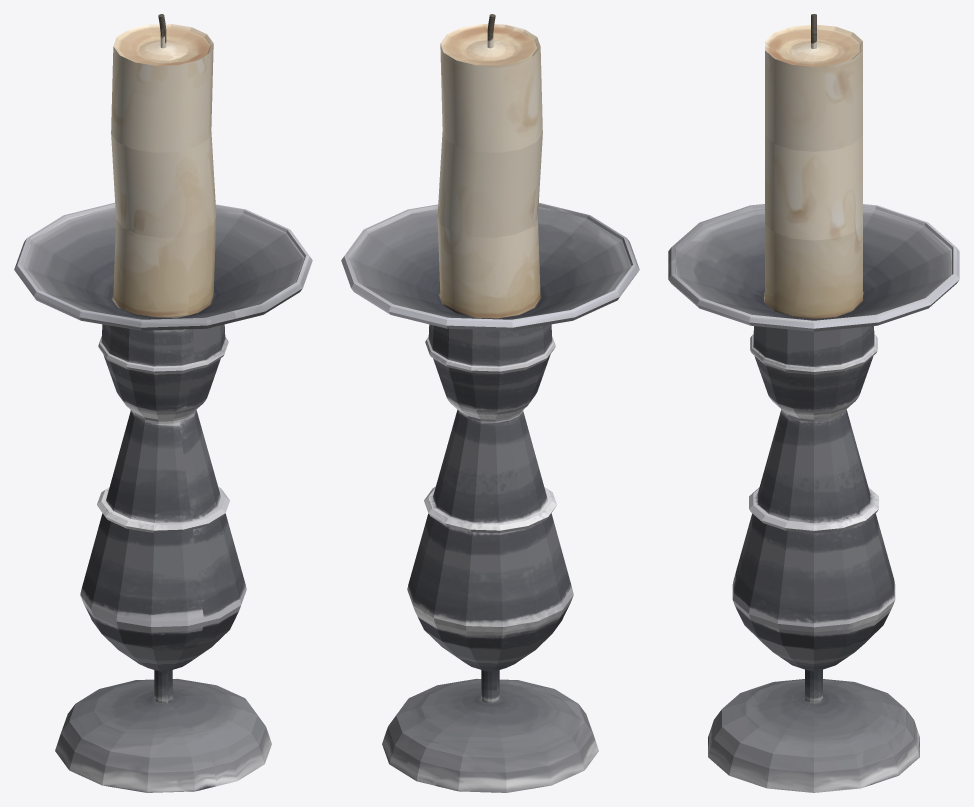
The model's file is Candle.fbx.
3 views of the same model, side by side, from view 1: azimuth 30°, elevation 25°; view 2: azimuth 150°, elevation 25°; view 3: azimuth 270°, elevation 25° (orthographic).
Parts seen in each view (by area): view 1: polySurface2, polySurface1; view 2: polySurface2, polySurface1; view 3: polySurface2, polySurface1.
Boxes of the visible parts, x1,y1,x2,y2 form: polySurface2: [14, 203, 312, 792]; polySurface1: [111, 14, 216, 318]; polySurface2: [341, 203, 639, 792]; polySurface1: [437, 14, 542, 318]; polySurface2: [668, 204, 959, 792]; polySurface1: [765, 14, 862, 318].
Bounding box in the file's own units: 17.87 × 48.23 × 17.42.
2 materials, 2 textured.
